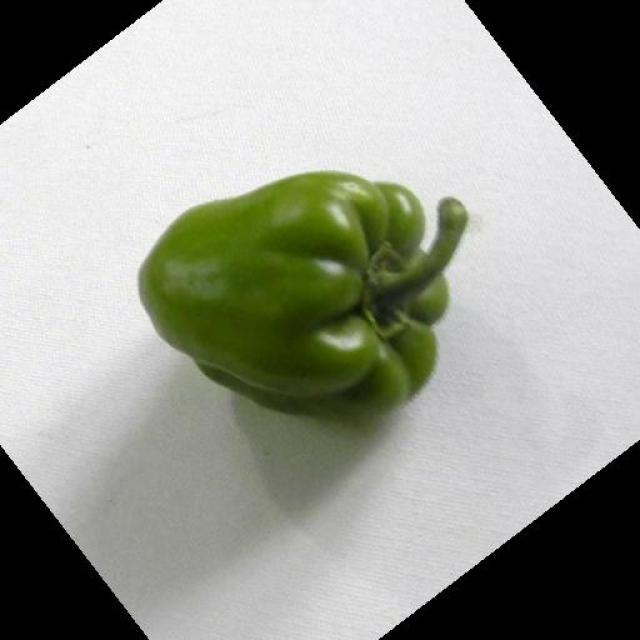Fresh_Capsicum: (119, 165, 459, 406)
